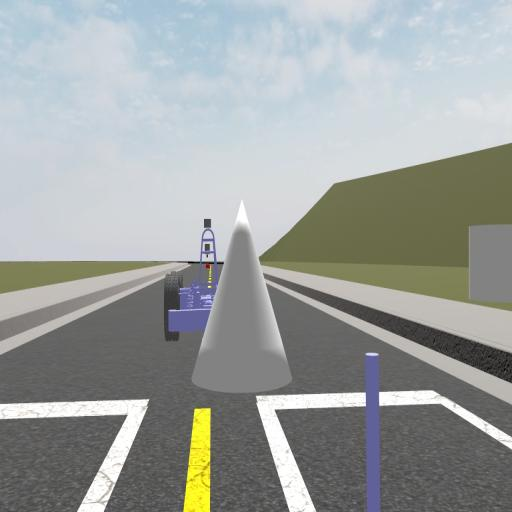ERP-42: (163, 222, 218, 337)
